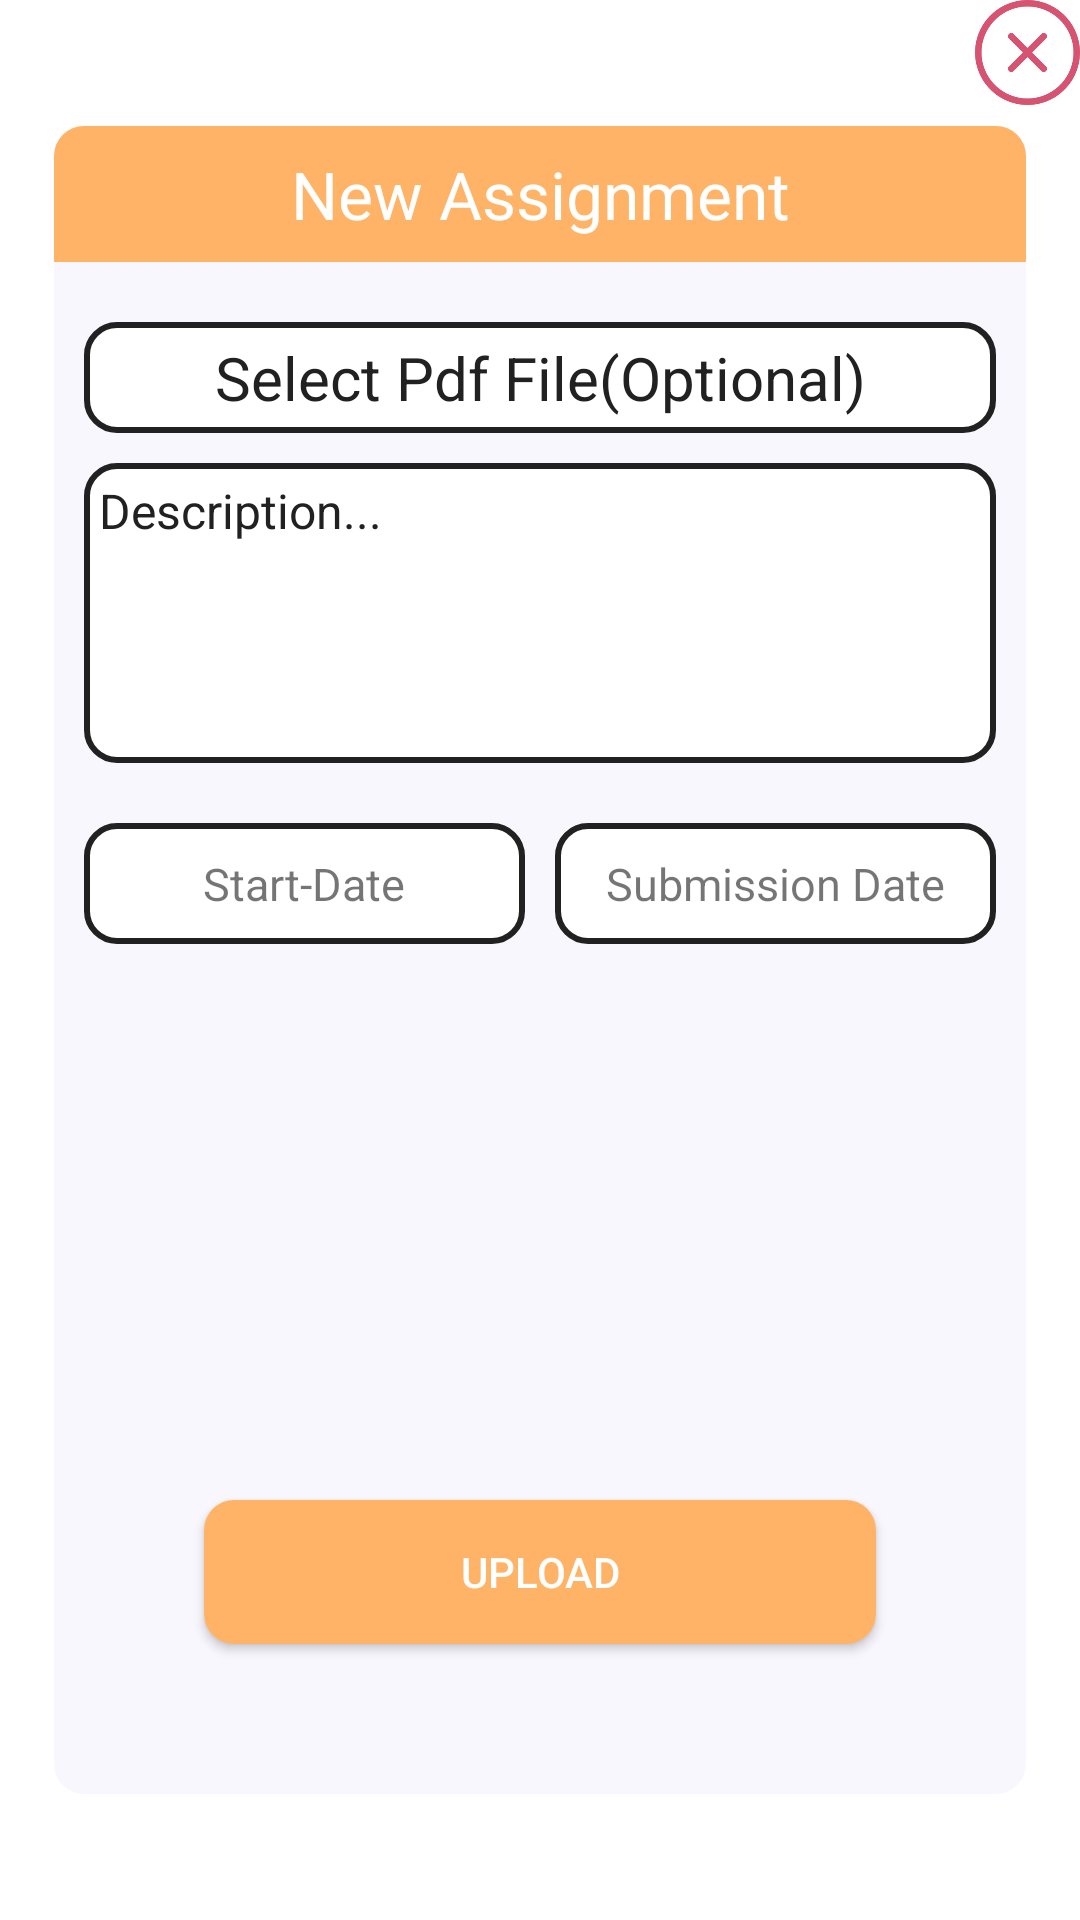

Named icons in this screenshot (1080px x 1920px) and their centers, [x,y]:
remove: [1027,52]
